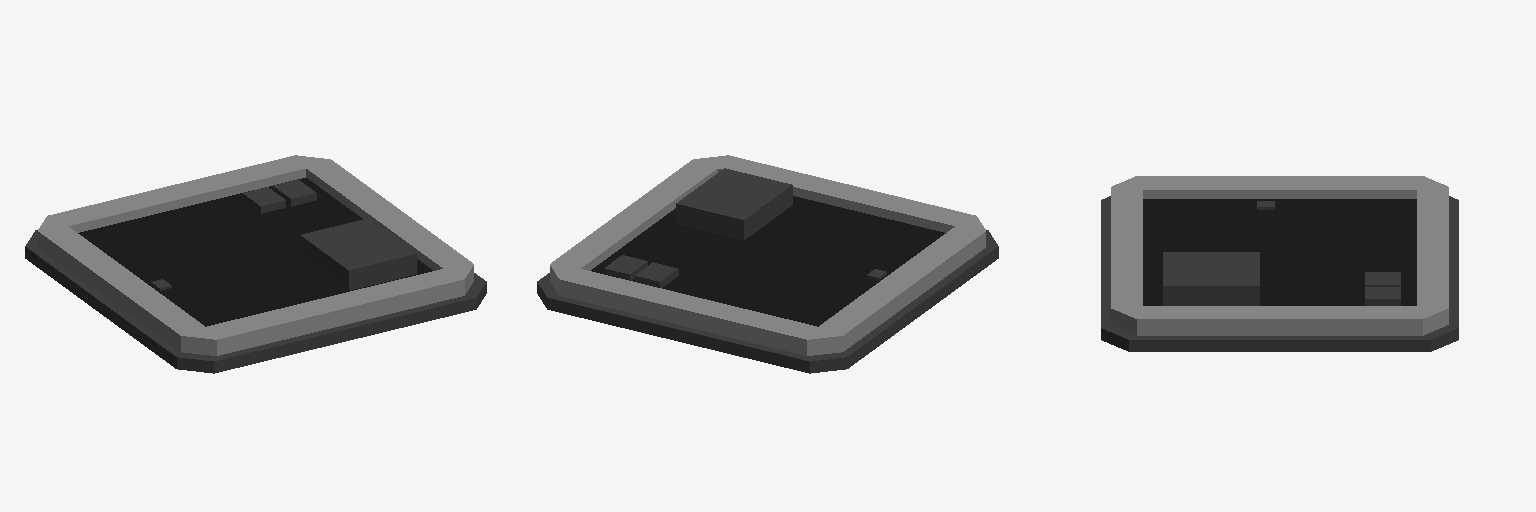
File: roof_stationary.obj
3 renders of one model, left to right at view 1: azimuth 30°, elevation 25°; view 2: azimuth 150°, elevation 25°; view 3: azimuth 270°, elevation 25°, orthographic.
Visible parts, largest first — view 1: Cube.004_Cube.007; view 2: Cube.004_Cube.007; view 3: Cube.004_Cube.007.
Boxes of the visible parts, x1,y1,x2,y2 form: Cube.004_Cube.007: [25, 155, 486, 373]; Cube.004_Cube.007: [537, 155, 998, 373]; Cube.004_Cube.007: [1101, 176, 1458, 351].
Bounding box in the file's own units: 1.02 × 0.1262 × 1.02.